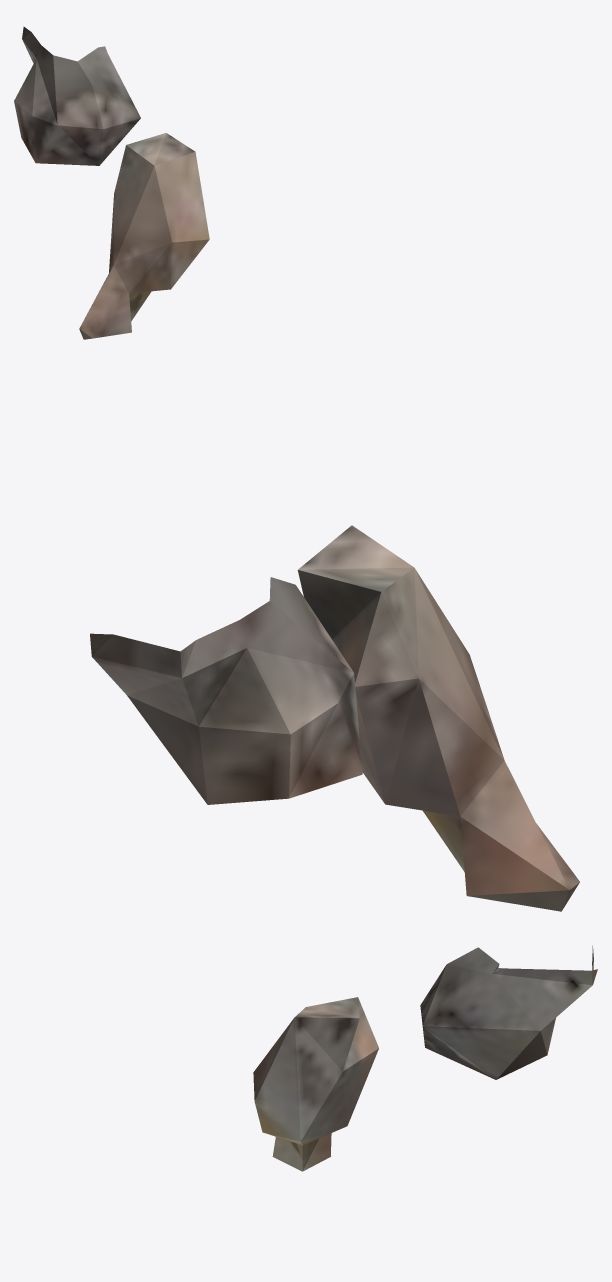
3 views of the same model, one above another, from view 1: azimuth 30°, elevation 25°; view 2: azimuth 150°, elevation 25°; view 3: azimuth 270°, elevation 25° (orthographic). The views are drawn at different scales.
Size of the model in its own units: 0.2099 by 0.1061 by 0.2327.
Materials: 1 (1 with a texture image).
